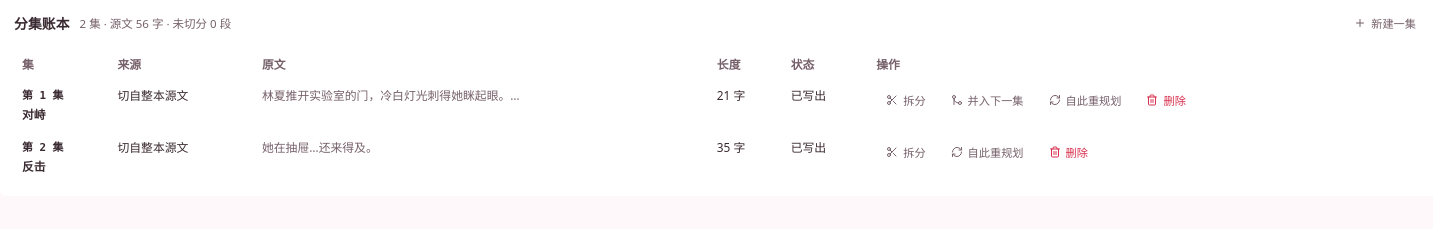
EpisodeLedgerTools › keeps the ledger when the user declines to lose a written episode
This screenshot has width=1433, height=229.
Click the button with aria-label "删除第 1 集" at {"x": 1166, "y": 100}, box [1136,86,1196,114]
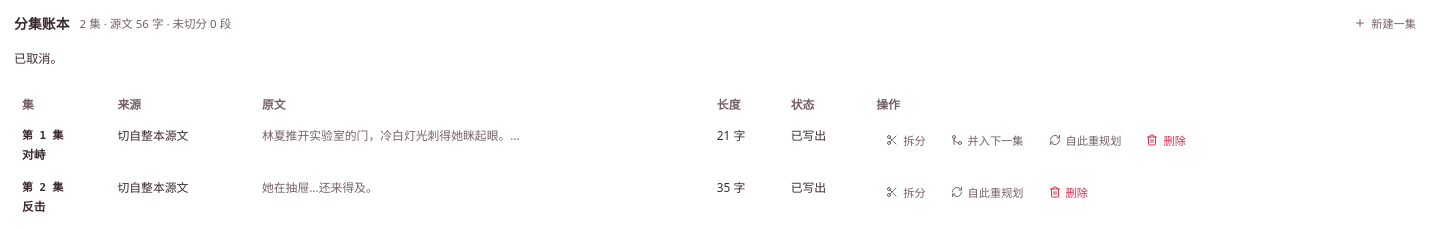
Now the text "已取消。" is shown, box [14,50,63,67]
